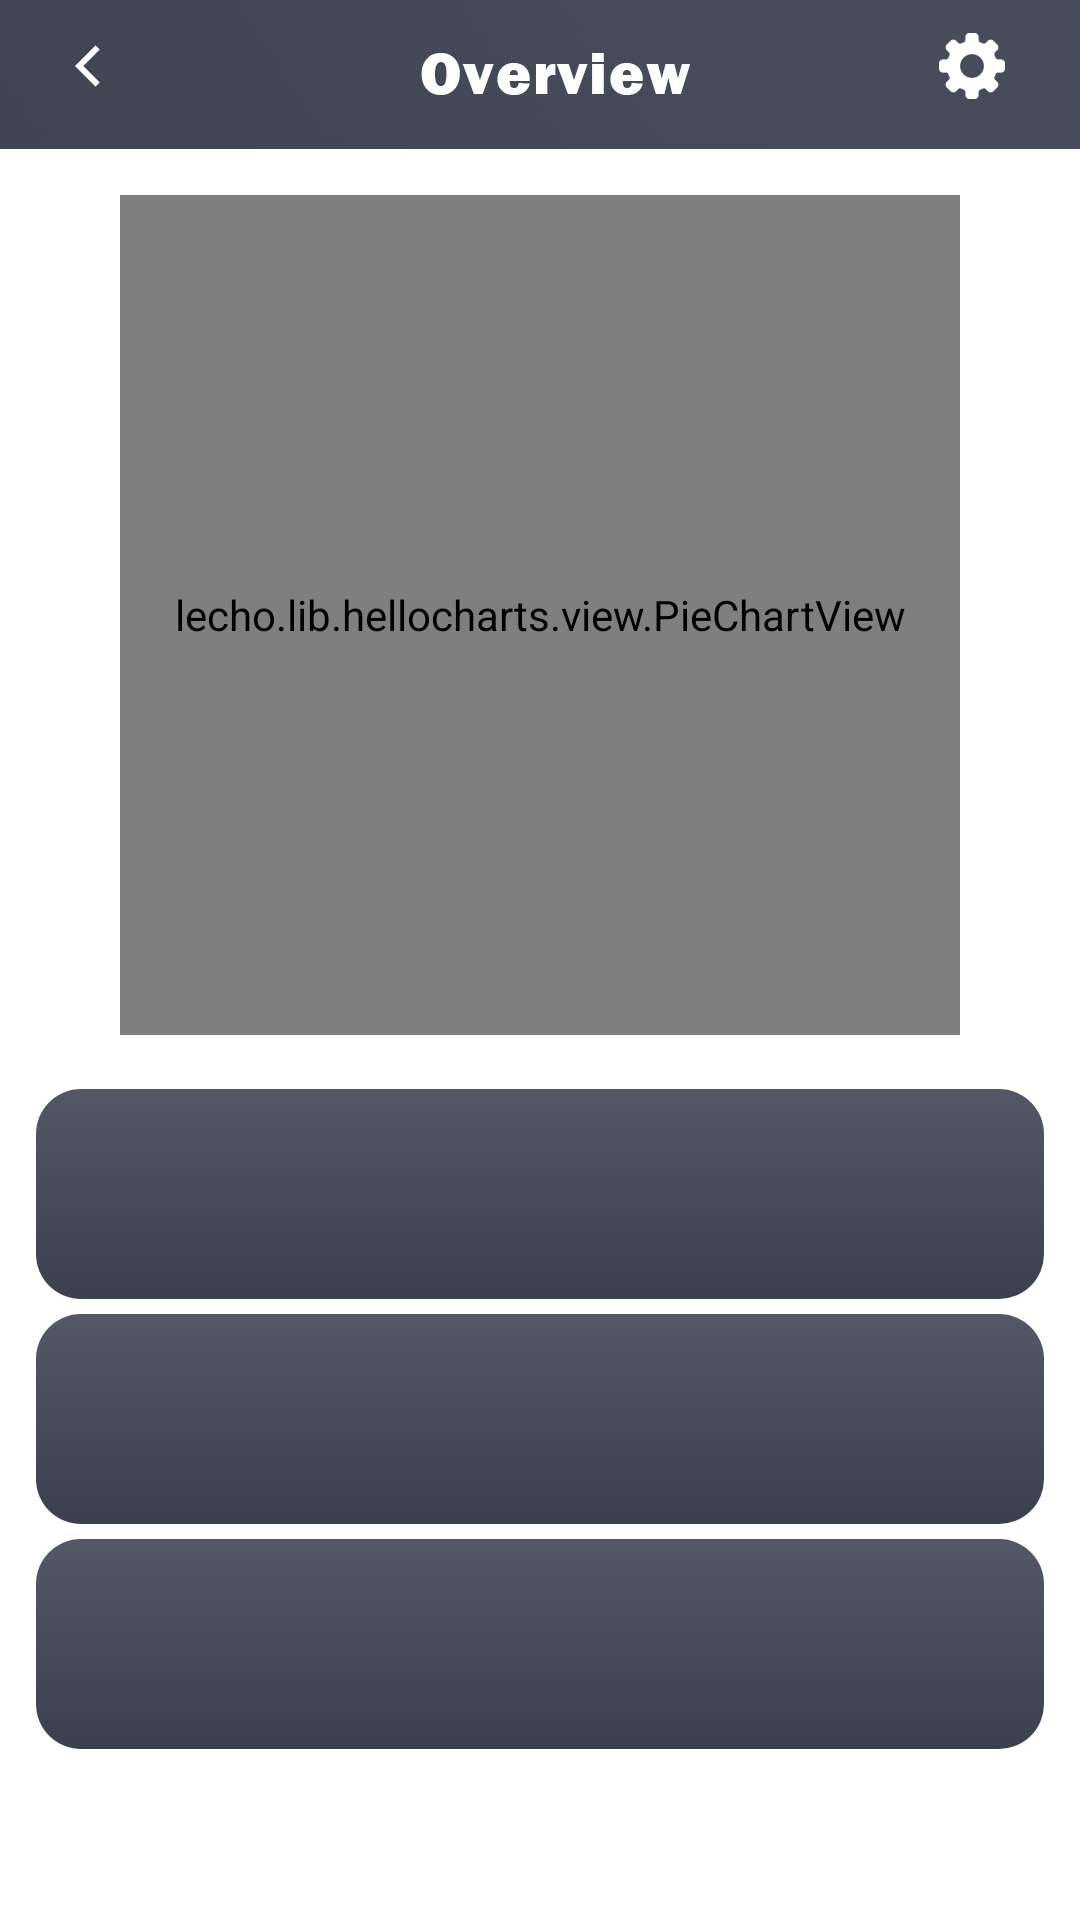

Where to tap for icons on this 1080x1920 app screen, as (x,y):
arrow back: (87,66)
setting: (972,66)
